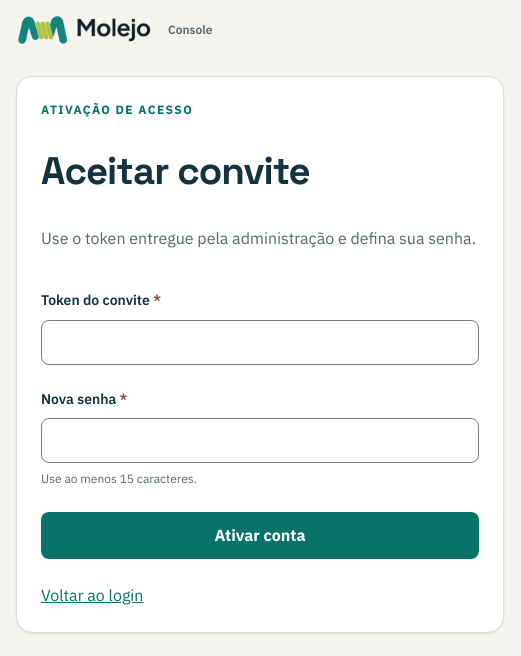
invitation activation › preserves the invitation and password after a correctable failure
Type "one-time-invitation-token" into the field labelled "Token do convite" at (260, 342), box [41, 320, 479, 365]
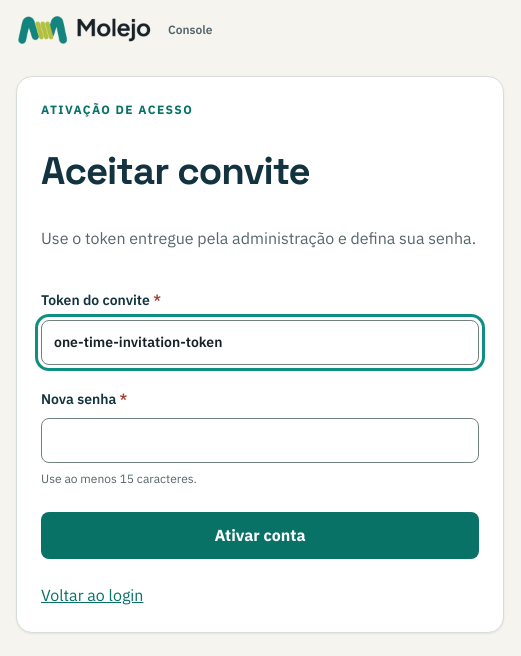
Type "a durable user password" into the password field labelled "Nova senha" at (260, 441), box [41, 418, 479, 463]
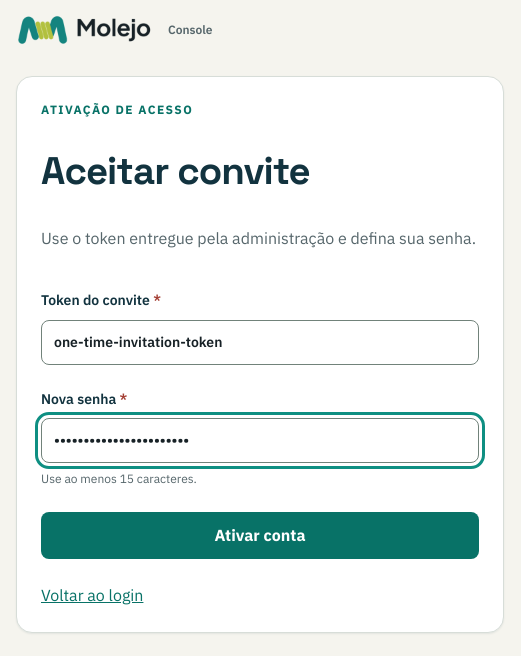
Click the button "Ativar conta" at (260, 535), box [41, 512, 479, 559]
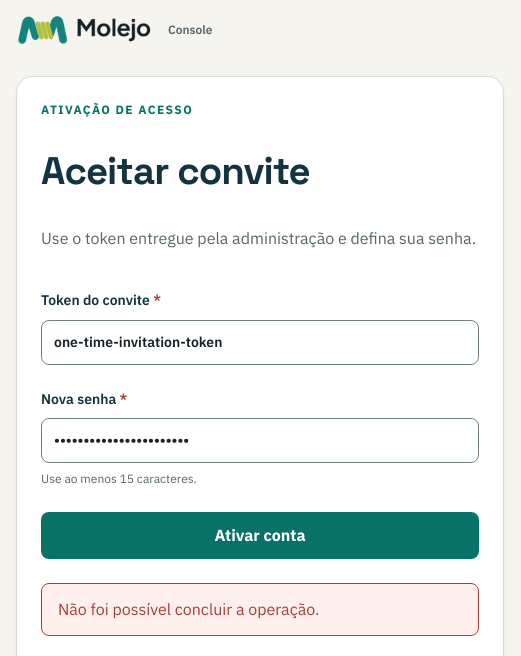
expect the message "Não foi possível concluir a operação." is shown: met, box [41, 583, 479, 636]
